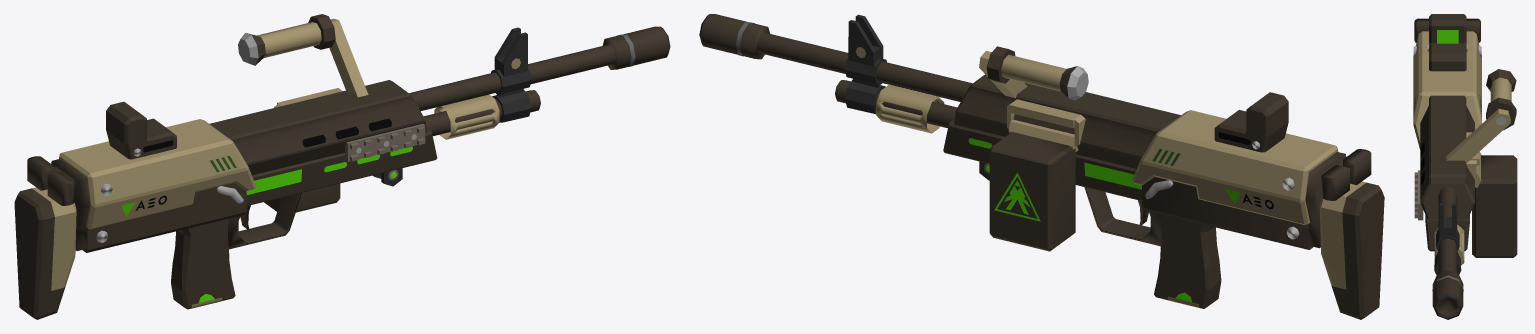
Rendered from Weapon5.fbx.
3 renders of one model, left to right at view 1: azimuth 30°, elevation 25°; view 2: azimuth 150°, elevation 25°; view 3: azimuth 270°, elevation 25°, orthographic. The views are drawn at different scales.
Visible parts, largest first — view 1: weapon5; view 2: weapon5; view 3: weapon5.
Boxes of the visible parts, left/top/right/bottom form: weapon5: left=14, top=14, right=670, bottom=319; weapon5: left=699, top=14, right=1384, bottom=319; weapon5: left=1413, top=14, right=1517, bottom=319.
Size of the model in its own units: 0.7494 by 0.2536 by 0.1221.
